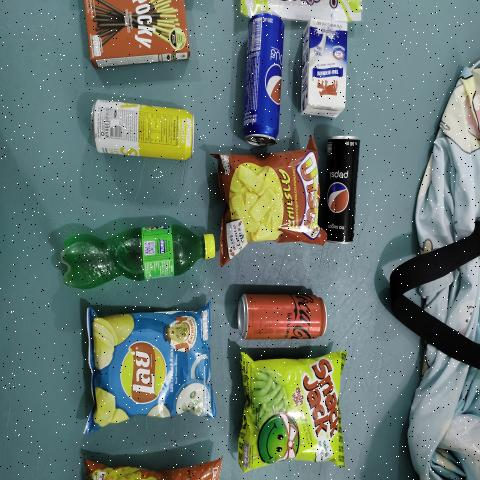coke_red: (244, 296, 320, 336)
fanta_green: (63, 220, 216, 286)
lay_blue: (95, 319, 209, 408)
party_red: (224, 146, 316, 254)
pepsi_black: (329, 133, 358, 248)
pepsi_blue: (245, 15, 285, 141)
pokki: (84, 0, 190, 60)
singha_yellow: (88, 94, 199, 172)
snack_jack: (244, 358, 338, 460)
thai_denmark: (302, 24, 347, 112)
